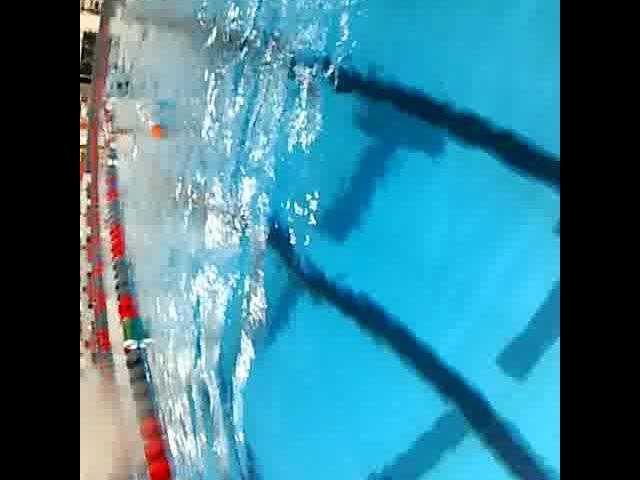Bottle: (130, 90, 168, 142)
Can: (118, 314, 144, 352)
